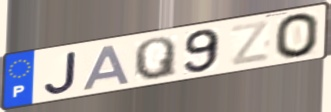9: (182, 27, 223, 76)
A: (81, 43, 134, 93)
J: (42, 49, 79, 95)
O: (273, 12, 321, 61)
Q: (132, 35, 179, 82)
Z: (228, 18, 271, 68)
